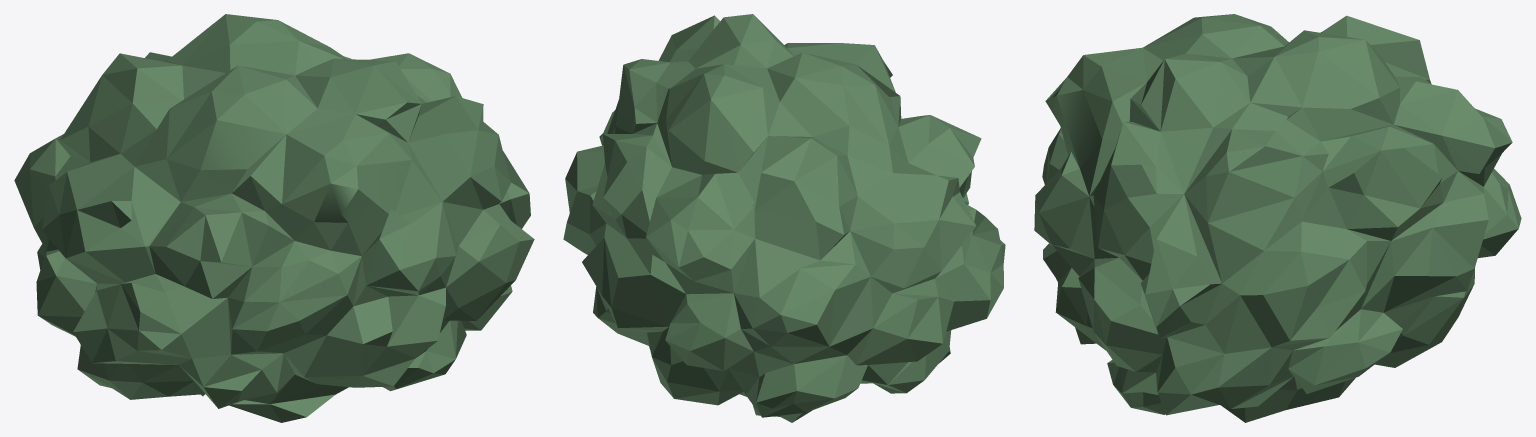
The model's file is shrub6.fbx.
The picture shows the model from 3 angles, left to right: view 1: azimuth 30°, elevation 25°; view 2: azimuth 150°, elevation 25°; view 3: azimuth 270°, elevation 25°; orthographic projection. The views are drawn at different scales.
Parts seen in each view (by area): view 1: shrub6; view 2: shrub6; view 3: shrub6.
Boxes of the visible parts, bbox=[...] form: shrub6: bbox=[14, 14, 534, 422]; shrub6: bbox=[563, 14, 1005, 422]; shrub6: bbox=[1034, 14, 1521, 422].
Size of the model in its own units: 3.94 by 3.05 by 3.71.
